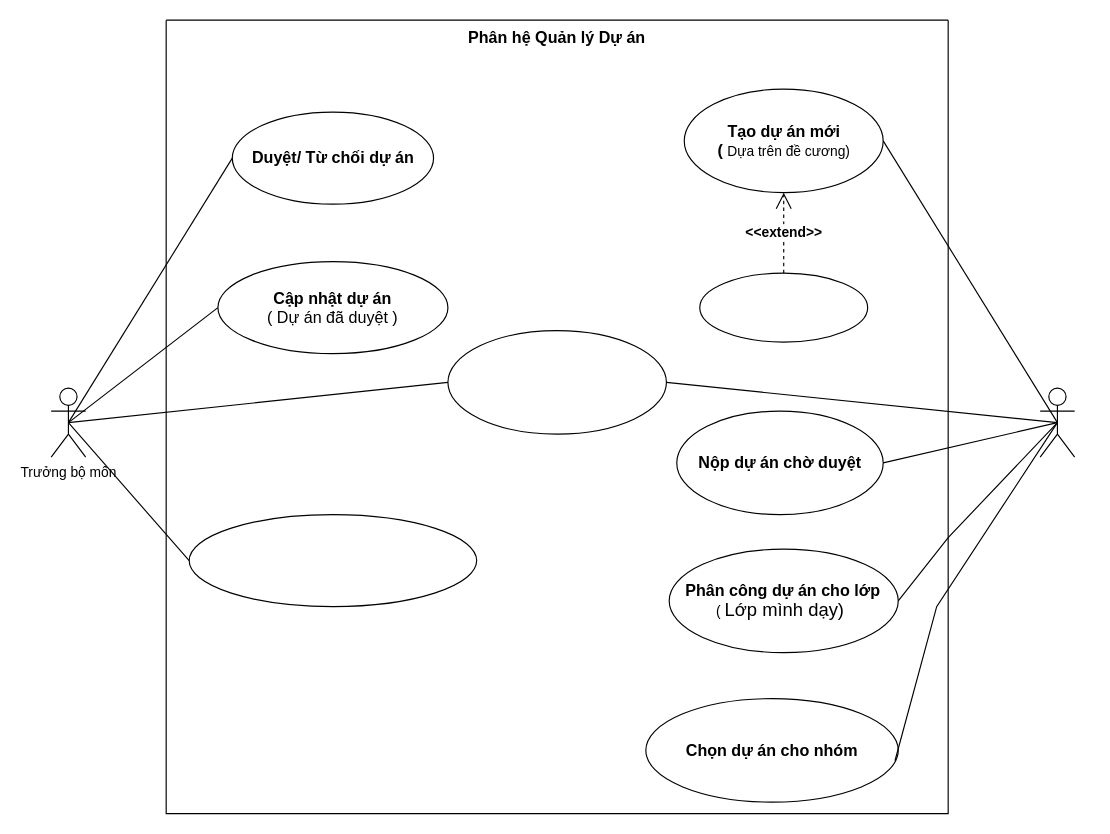
Some shapes in this 1110 by 834 pixel diagram are drawn without their labels. The shapes that lost their labels are listed below. From the top down, each one's centre as x and y in pixels, then its label:
At point (783, 307): "Sử dụng AI hỗ trợ".
At point (556, 381): "Xem danh sách dự án".
At point (1057, 422): "Giảng viên".
At point (332, 560): "Phân công dự án toàn bộ ( Cho tất cả các lớp )".
